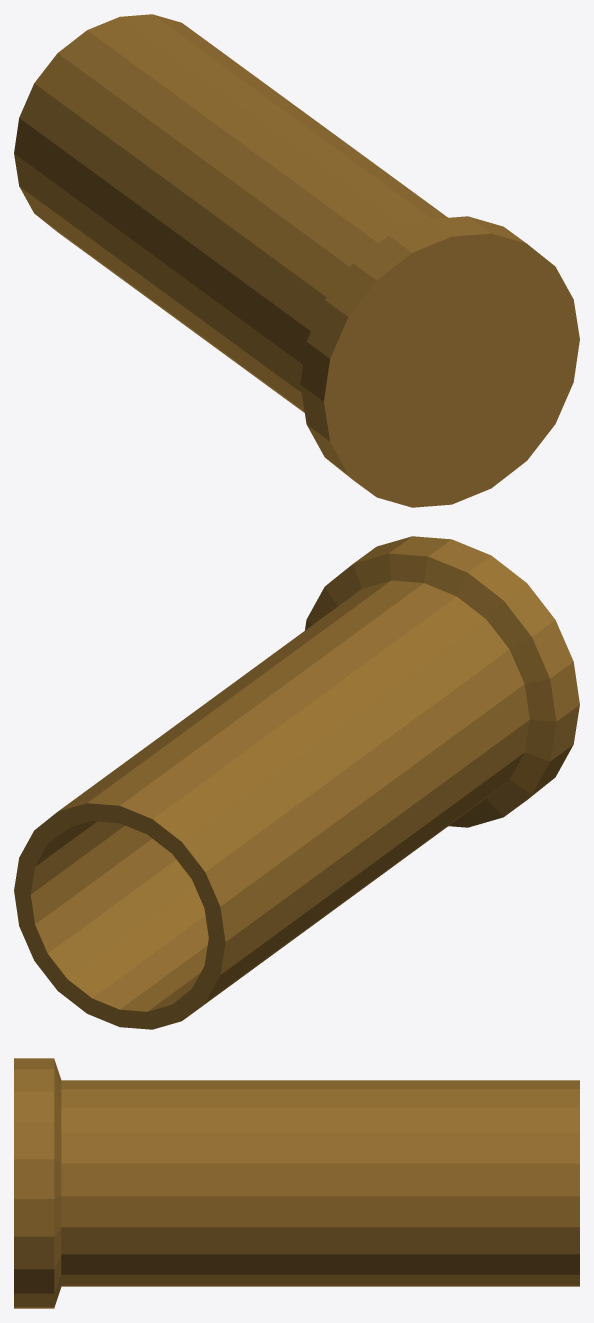
Rendered from estojo_22.glb.
The picture shows the model from 3 angles, top to bottom: view 1: azimuth 30°, elevation 25°; view 2: azimuth 150°, elevation 25°; view 3: azimuth 270°, elevation 25°; orthographic projection. The views are drawn at different scales.
Parts seen in each view (by area): view 1: estojo_22_latao; view 2: estojo_22_latao; view 3: estojo_22_latao.
Boxes of the visible parts, left/top/right/bottom form: estojo_22_latao: left=14, top=14, right=579, bottom=507; estojo_22_latao: left=14, top=536, right=579, bottom=1029; estojo_22_latao: left=14, top=1058, right=579, bottom=1308.
Size of the model in its own units: 0.0069 by 0.0069 by 0.0155.
